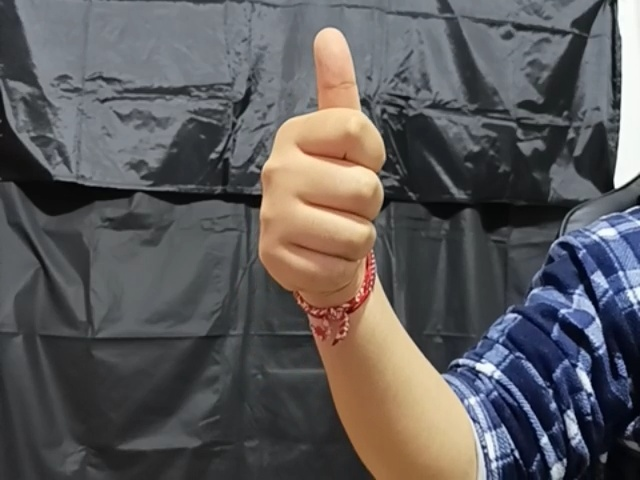A: (252, 22, 396, 297)
